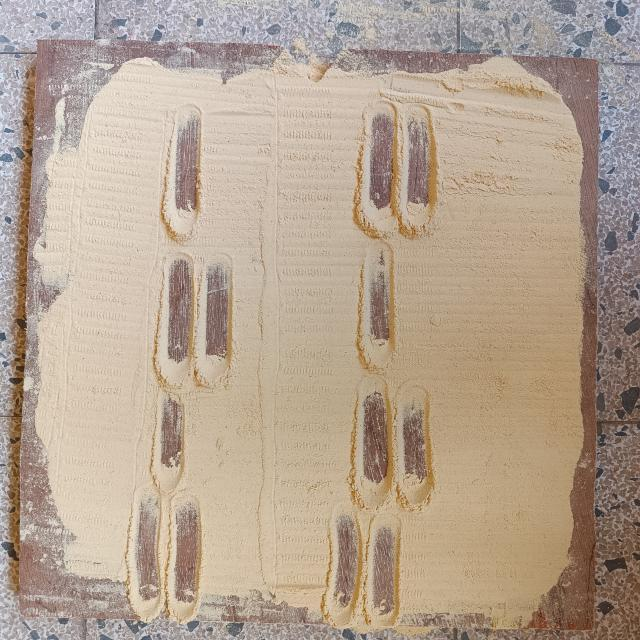double: (351, 91, 446, 242), (346, 374, 441, 516), (152, 244, 239, 394), (126, 487, 207, 623), (323, 508, 404, 631)
single: (158, 95, 208, 241), (356, 243, 402, 369), (150, 392, 190, 490)
